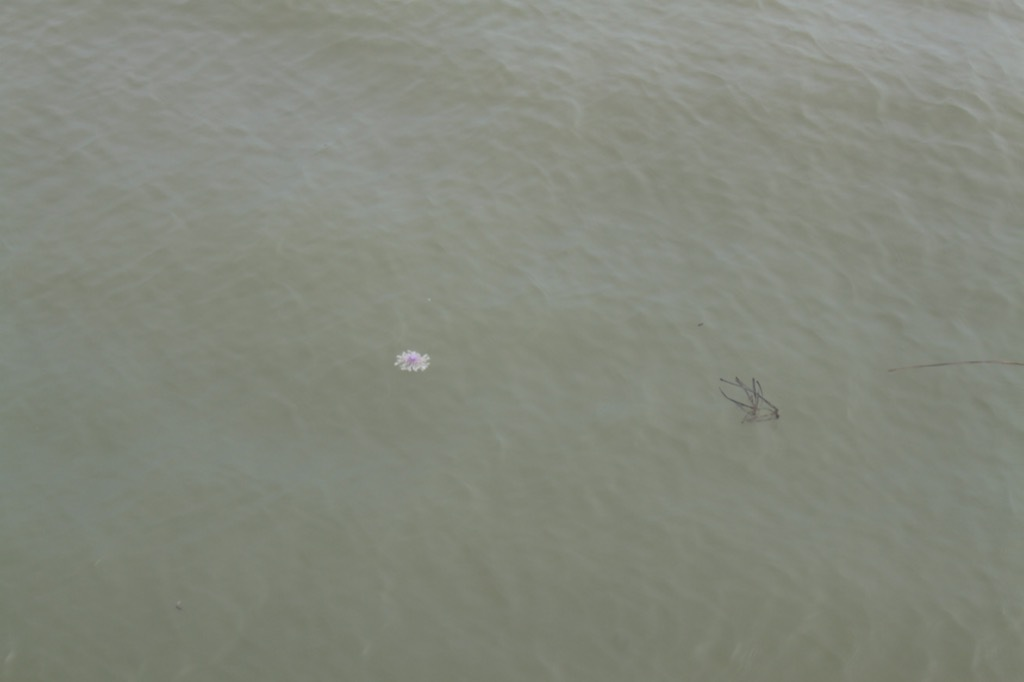organic: (705, 367, 796, 435), (873, 351, 1024, 390), (375, 339, 455, 383), (682, 310, 725, 339), (166, 593, 195, 621), (416, 295, 444, 305)
